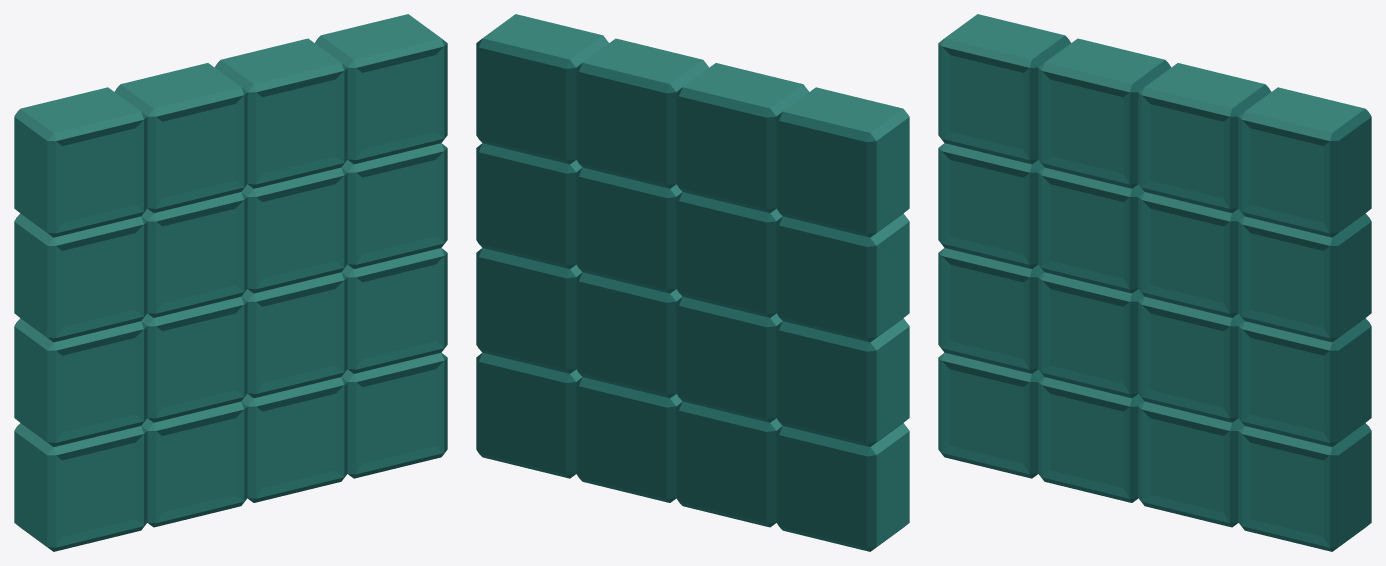
Rendered from Terrain_Block4x4.gltf.
3 views of the same model, side by side, from view 1: azimuth 30°, elevation 25°; view 2: azimuth 150°, elevation 25°; view 3: azimuth 330°, elevation 25° (orthographic).
Parts seen in each view (by area): view 1: Terrain_Block4x4_baked; view 2: Terrain_Block4x4_baked; view 3: Terrain_Block4x4_baked.
Boxes of the visible parts, x1,y1,x2,y2 form: Terrain_Block4x4_baked: [14, 14, 447, 551]; Terrain_Block4x4_baked: [476, 14, 909, 551]; Terrain_Block4x4_baked: [938, 14, 1371, 551].
Size of the model in its own units: 4 by 4 by 0.6822.
